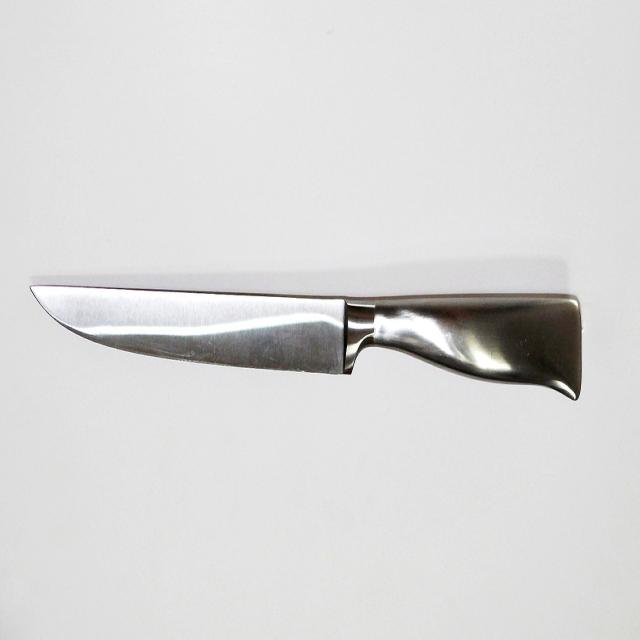knife: (28, 284, 582, 404)
